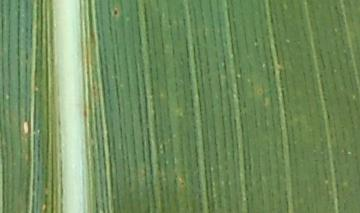tarspot: (111, 6, 121, 17), (256, 88, 264, 96)
